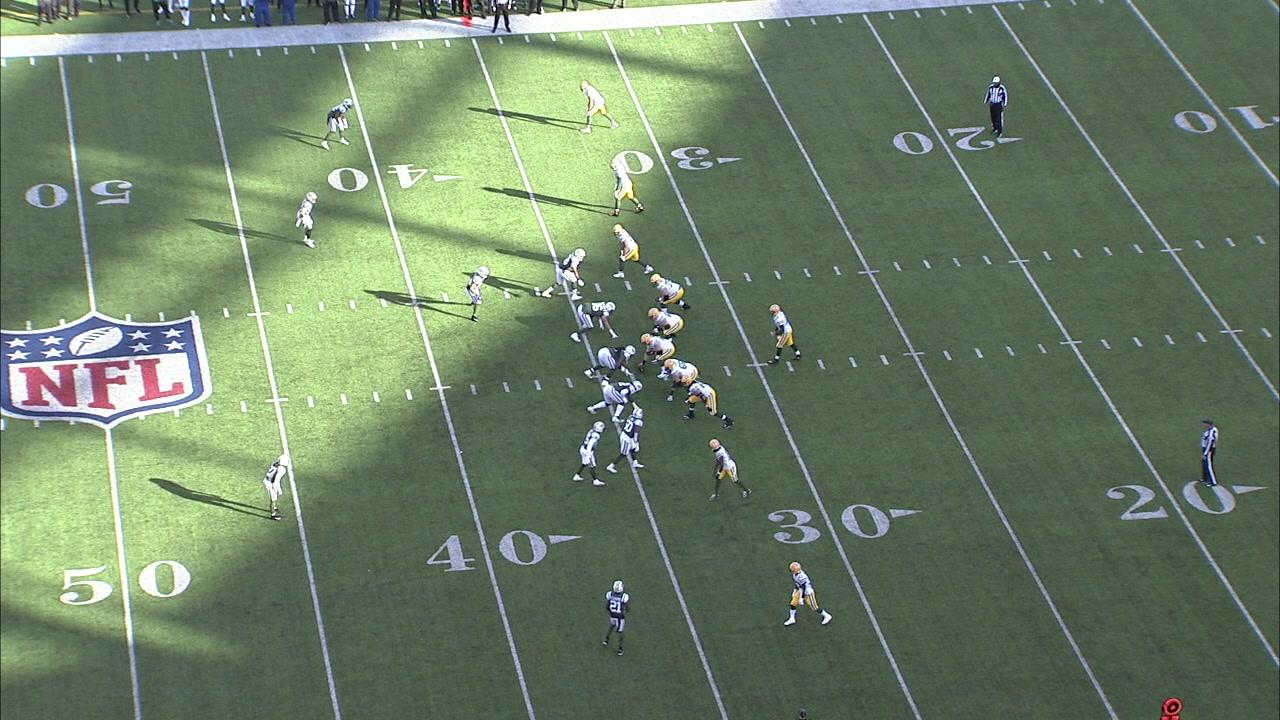defense: (541, 244, 590, 302), (605, 406, 645, 476), (581, 342, 637, 389), (569, 420, 606, 491), (586, 380, 645, 423), (603, 578, 632, 659), (569, 298, 619, 344), (259, 455, 293, 522), (292, 188, 322, 253), (459, 265, 493, 322), (321, 98, 355, 155)
oline: (681, 375, 740, 433), (647, 270, 691, 317), (661, 358, 701, 404), (646, 304, 685, 347), (637, 332, 675, 374)
qb: (760, 302, 805, 365)
ref: (1194, 417, 1224, 490), (984, 78, 1009, 137), (488, 0, 518, 38)
skill: (780, 559, 838, 631), (703, 437, 755, 500), (573, 77, 625, 134), (608, 223, 655, 278), (604, 160, 647, 218)
